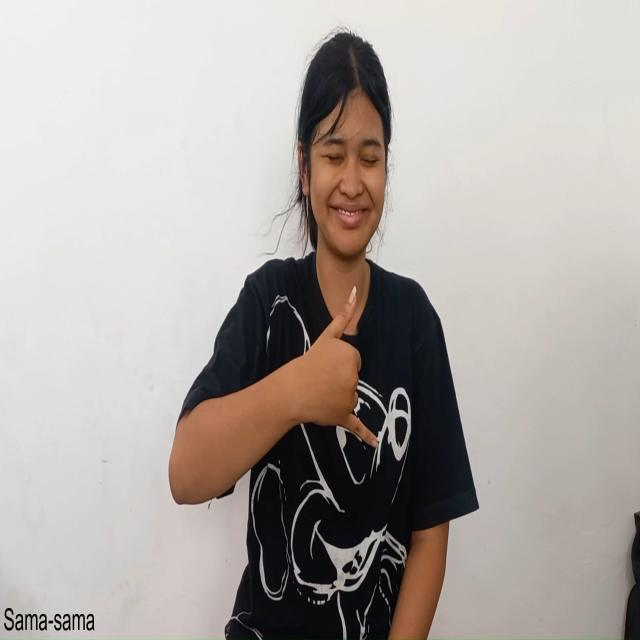Sama-sama -BISINDO-: (281, 271, 394, 462)
